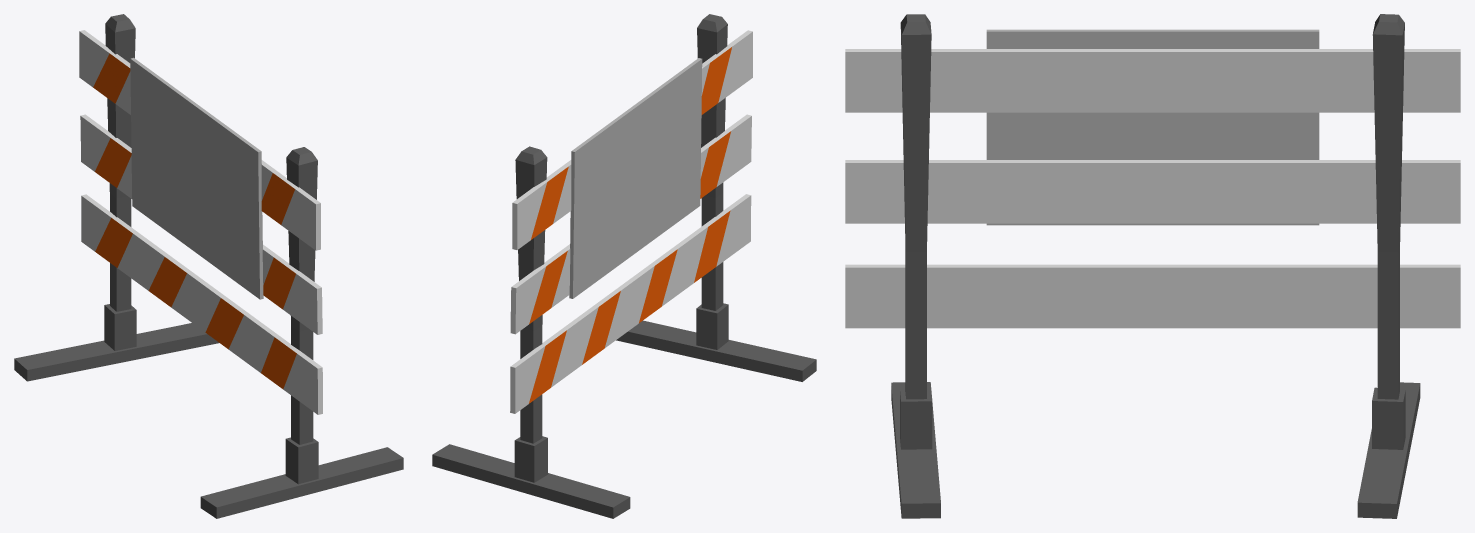
File: señalGrande.fbx
3 views of the same model, side by side, from view 1: azimuth 30°, elevation 25°; view 2: azimuth 150°, elevation 25°; view 3: azimuth 270°, elevation 25° (orthographic). The views are drawn at different scales.
Parts seen in each view (by area): view 1: Road Closed-01; view 2: Road Closed-01; view 3: Road Closed-01.
Part boxes in pixels (left/top/right/bottom): Road Closed-01: left=14, top=14, right=403, bottom=518; Road Closed-01: left=432, top=14, right=816, bottom=518; Road Closed-01: left=845, top=14, right=1460, bottom=518.
Size of the model in its own units: 85.08 by 143 by 181.
Materials: 1 (1 with a texture image).
